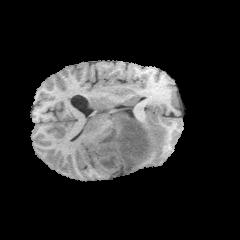glioma: (89, 117, 166, 171)
